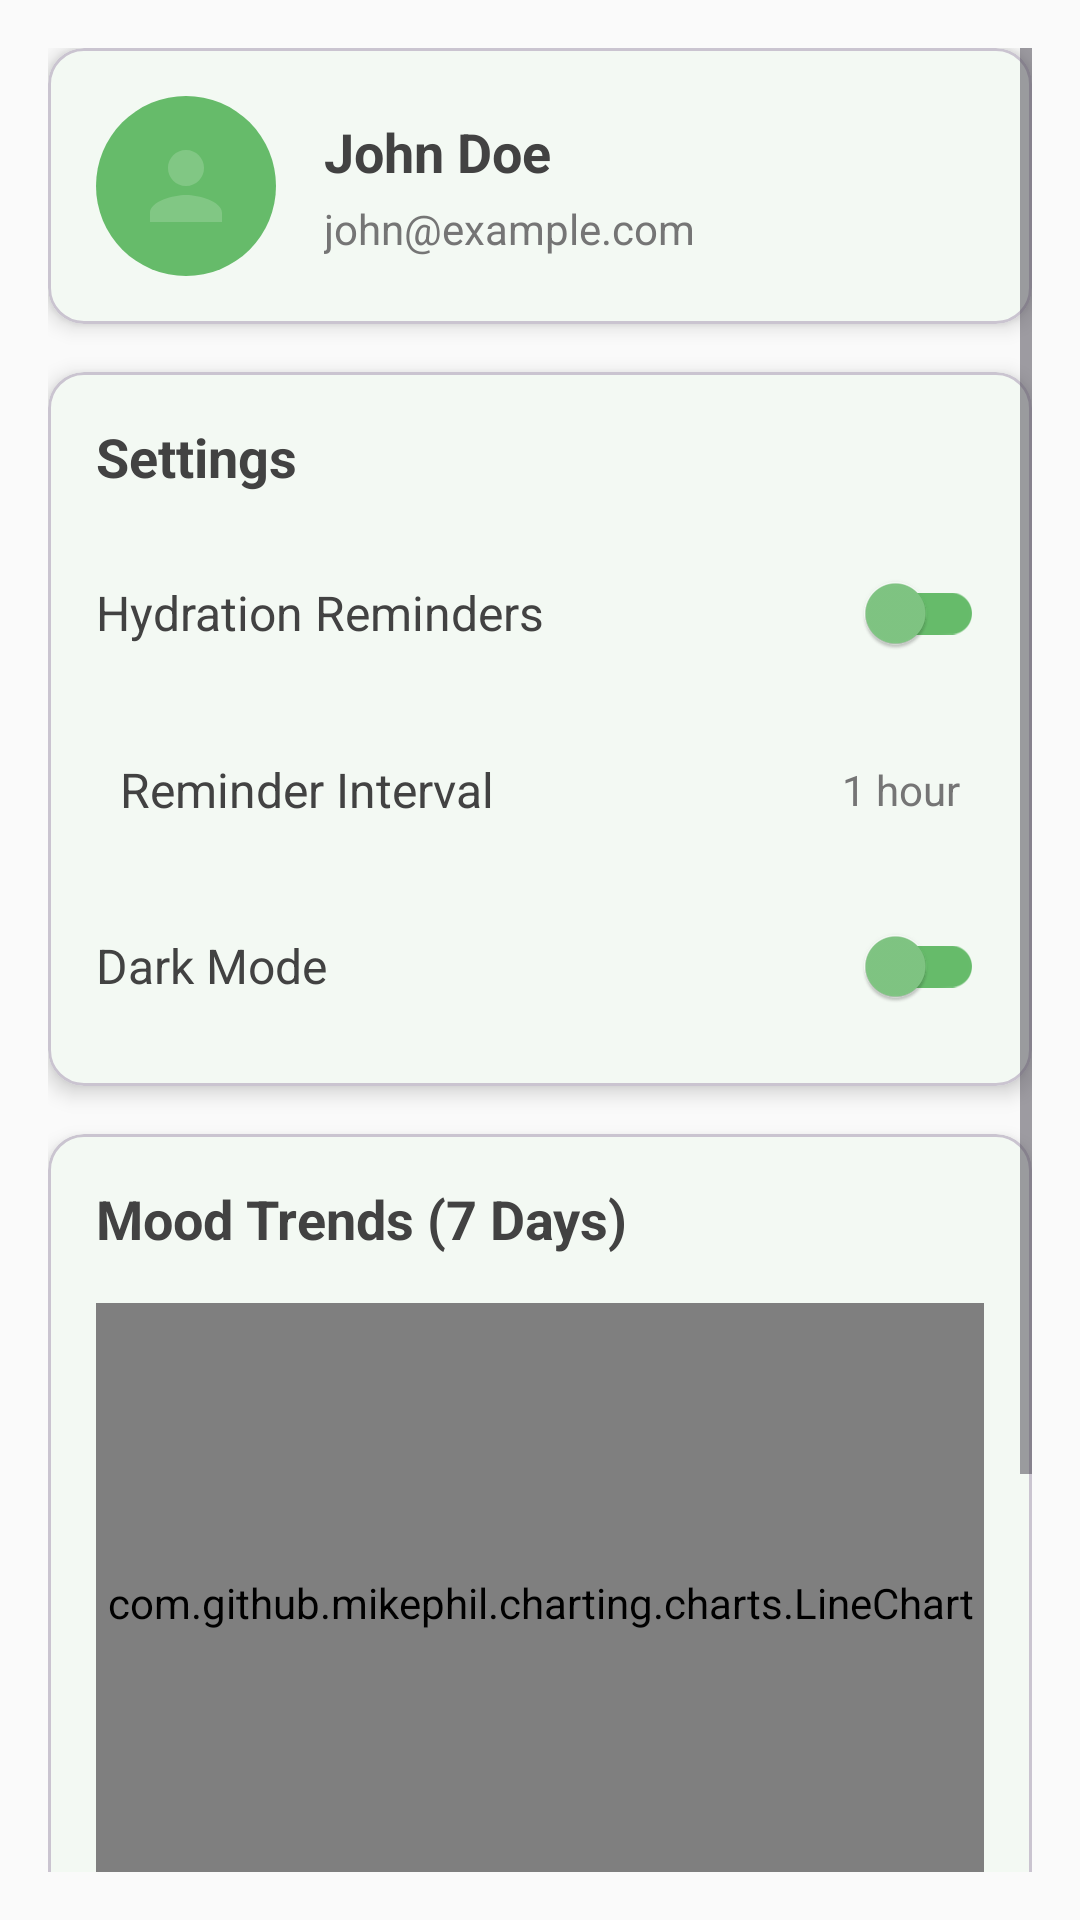

Point at icon controls on the screen. Image size 1080w x 1920h, points as [x,y].
profile: [186,186]
